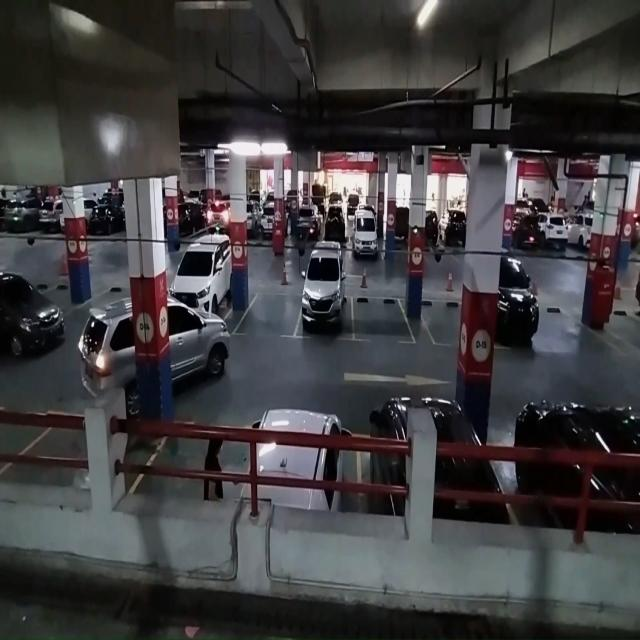empty: (353, 290, 413, 344), (243, 289, 300, 339), (420, 294, 462, 349)
occupied: (299, 265, 352, 340)
